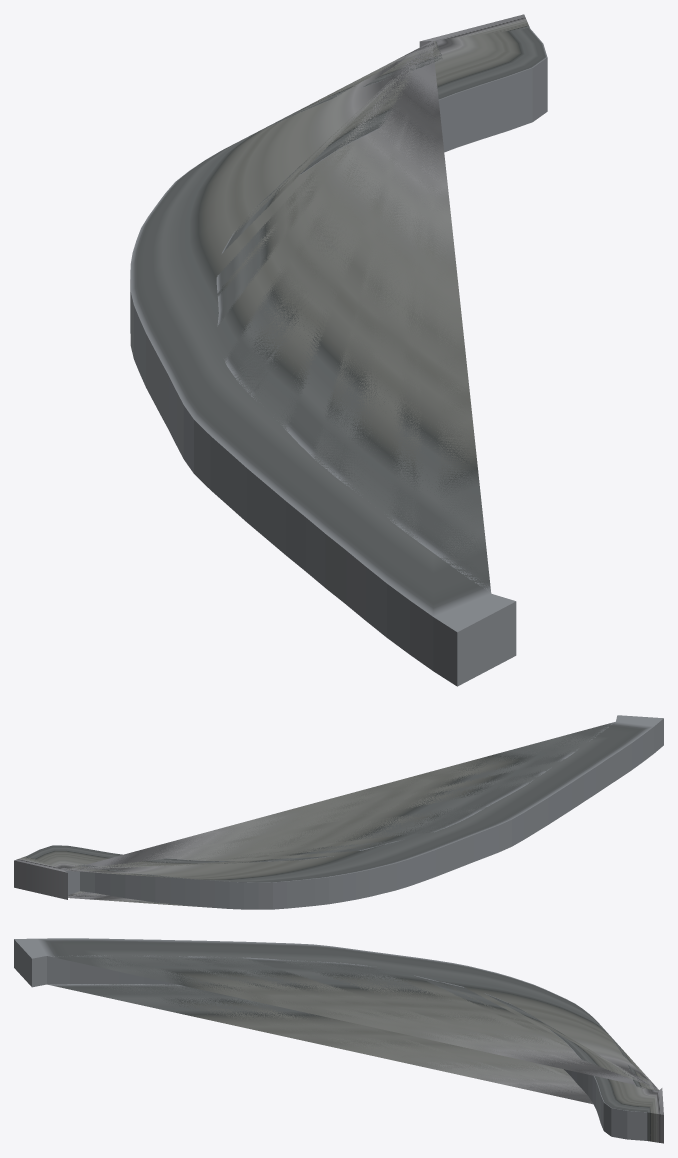
The model's file is roof.fbx.
3 renders of one model, top to bottom at view 1: azimuth 30°, elevation 25°; view 2: azimuth 150°, elevation 25°; view 3: azimuth 270°, elevation 25°, orthographic. The views are drawn at different scales.
Visible parts, largest first — view 1: Ground; view 2: Ground; view 3: Ground.
Part boxes in pixels (left/top/right/bottom): Ground: left=130, top=14, right=547, bottom=686; Ground: left=14, top=715, right=663, bottom=909; Ground: left=14, top=938, right=663, bottom=1143.
Size of the model in its own units: 2220 by 168 by 3454.
